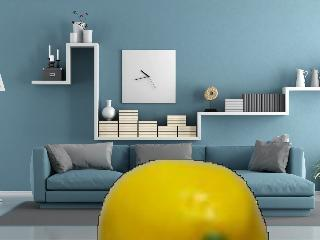lemon: (97, 159, 269, 239)
